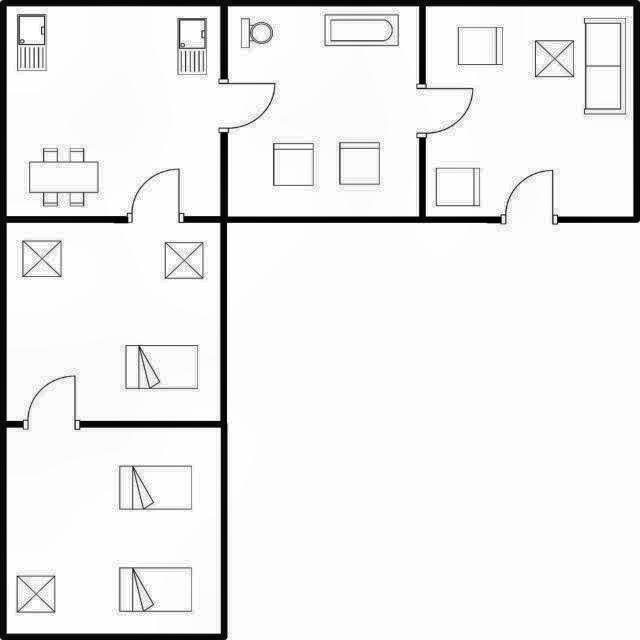room: (7, 6, 220, 216), (7, 428, 221, 634), (426, 6, 633, 217), (7, 223, 220, 421), (228, 6, 419, 217)
